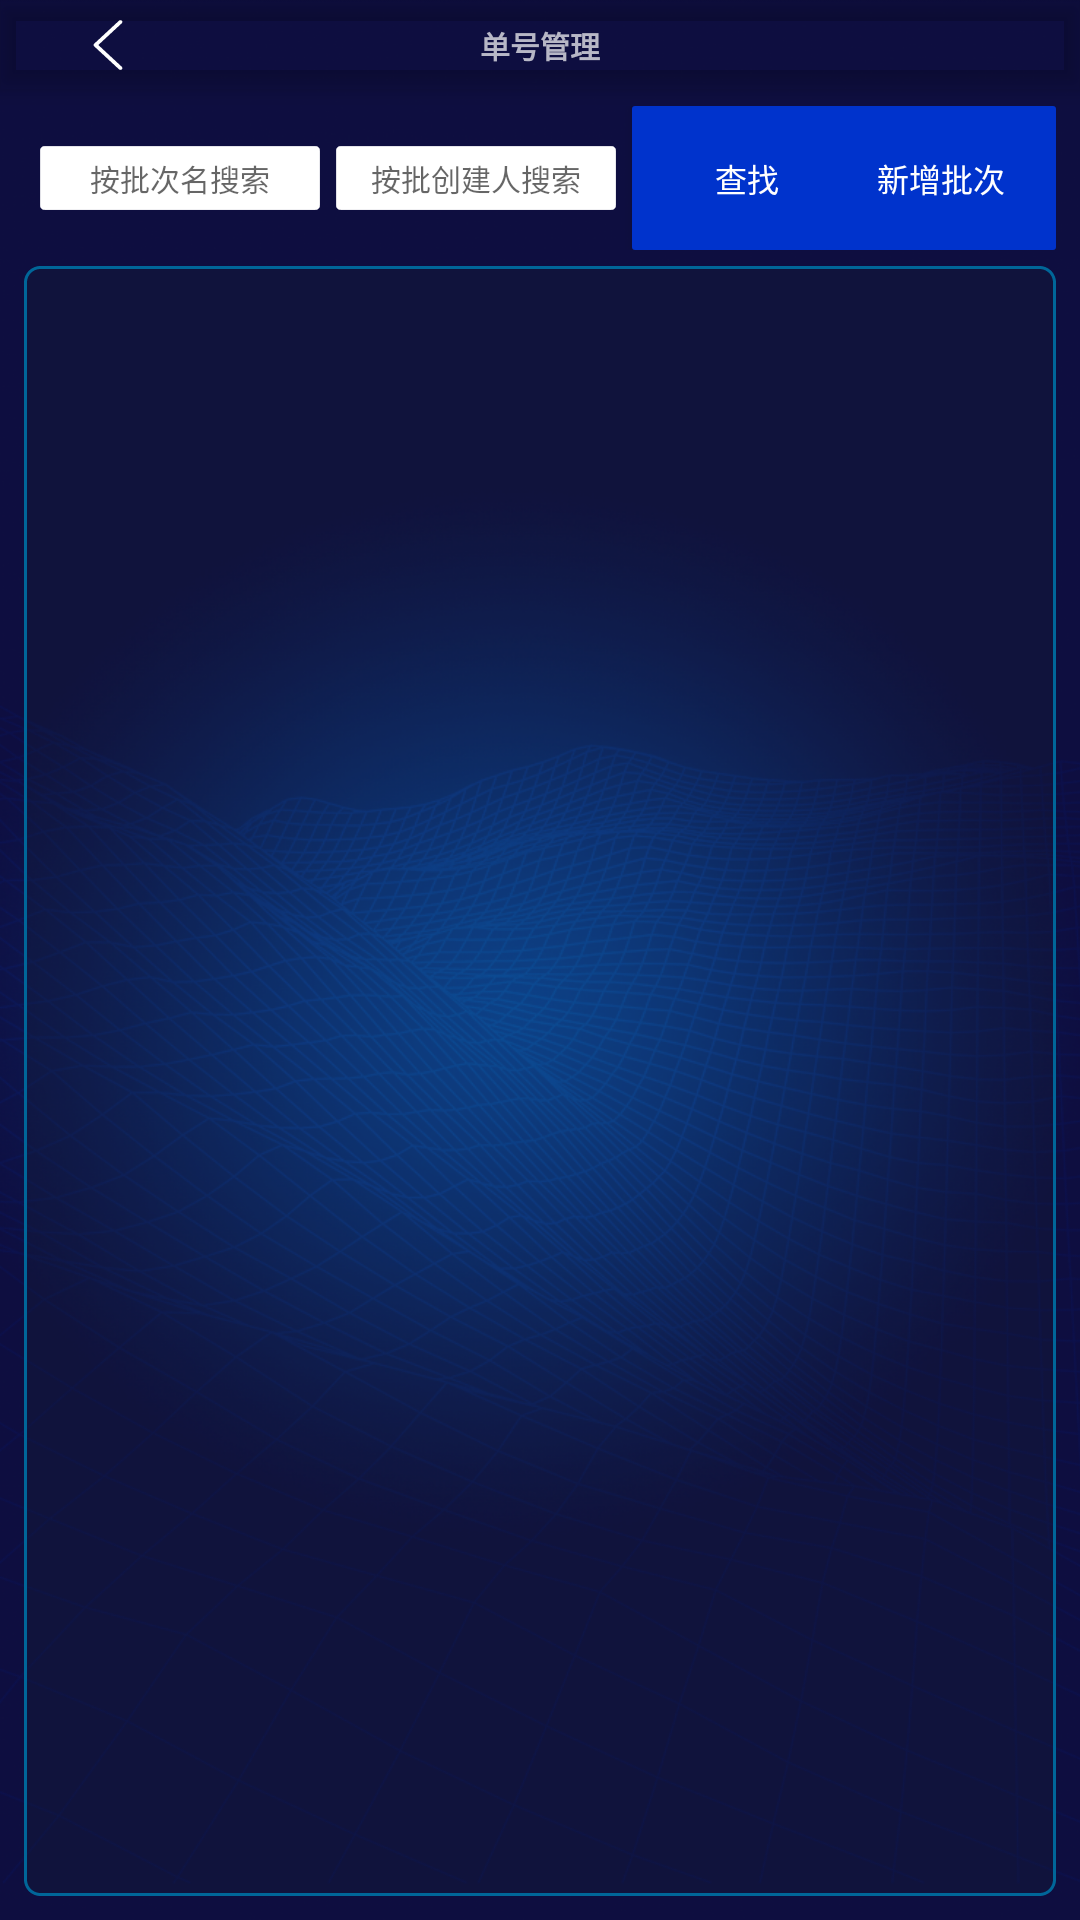

Icon bounding boxes for this 1080*1920 phone screenshot, format (x1, y1, x2, y2):
back: (93, 20, 123, 70)
